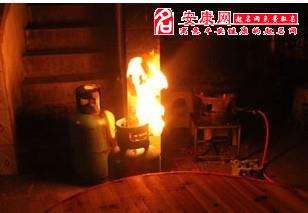fire: (125, 53, 172, 129)
